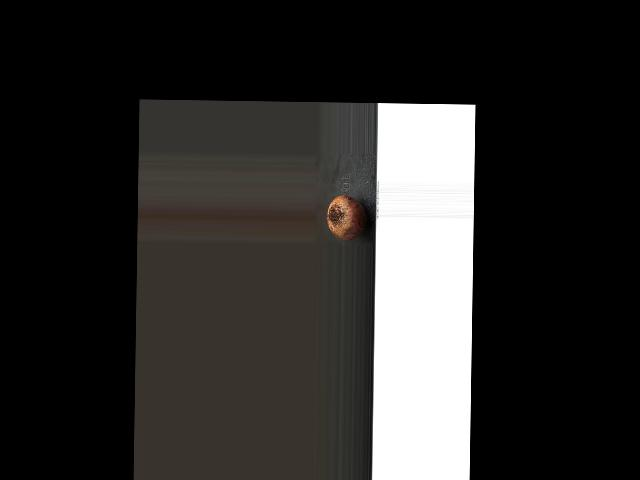beet: (327, 195, 367, 241)
